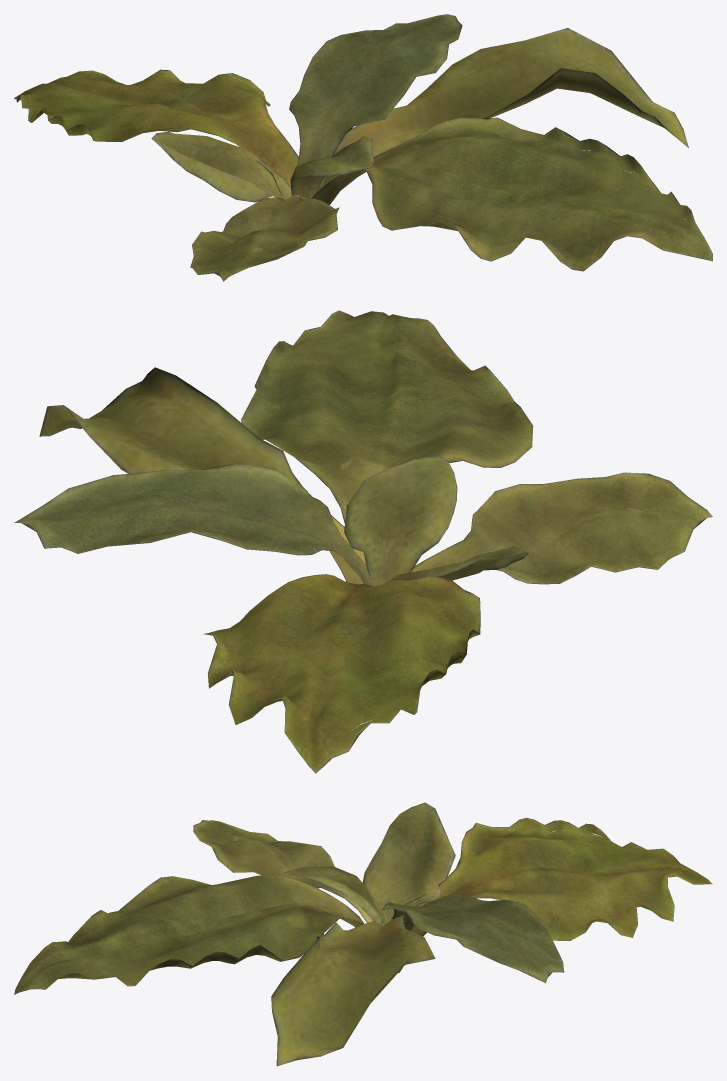
File: crystalline_iceplant_a.gltf.lod.glb
3 renders of one model, top to bottom at view 1: azimuth 30°, elevation 25°; view 2: azimuth 150°, elevation 25°; view 3: azimuth 270°, elevation 25°, orthographic. The views are drawn at different scales.
Visible parts, largest first — view 1: crystalline_iceplant_d_LOD0; view 2: crystalline_iceplant_d_LOD0; view 3: crystalline_iceplant_d_LOD0.
Part boxes in pixels (x1,y1,x2,y2): crystalline_iceplant_d_LOD0: (14, 14, 712, 281); crystalline_iceplant_d_LOD0: (14, 310, 712, 773); crystalline_iceplant_d_LOD0: (14, 802, 712, 1066).
Size of the model in its own units: 0.1438 by 0.038 by 0.1828.
1 material, 1 textured.
